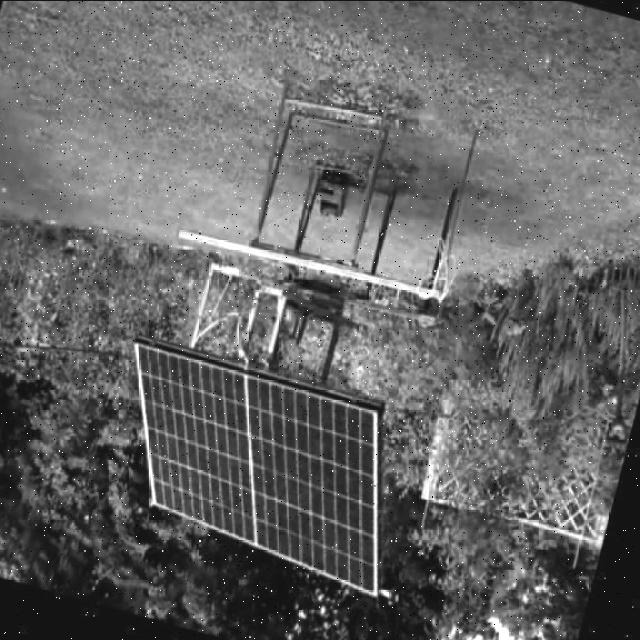Normal Solar Panel: (90, 338, 428, 600)
